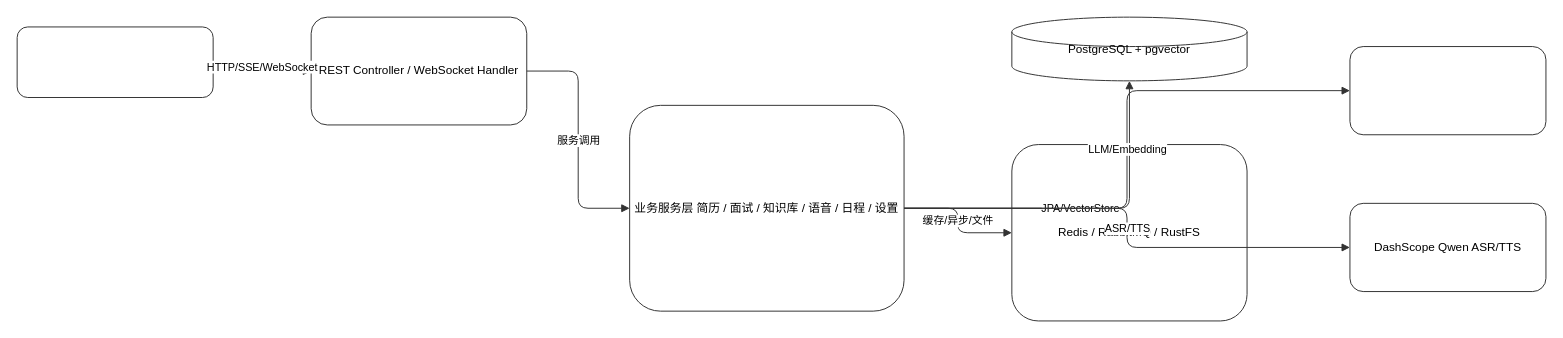
The diagram is 1563 pixels wide and 338 high, and some of its shapes have lost their labels. The centre of each missing label's shape, as x and y in pixels:
OpenAI兼容LLM / Embedding: (1447,90)
React Web 前端: (114,62)
